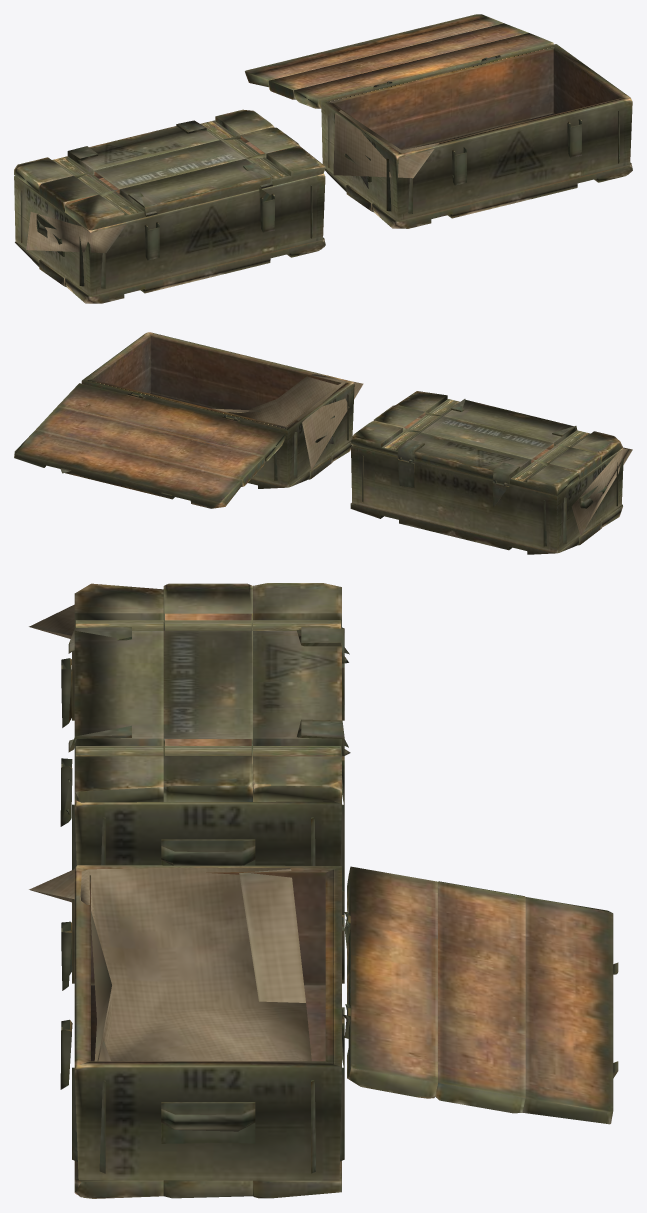
The model's file is old_military_crate.glb.
3 views of the same model, one above another, from view 1: azimuth 30°, elevation 25°; view 2: azimuth 150°, elevation 25°; view 3: azimuth 270°, elevation 25° (orthographic). The views are drawn at different scales.
Parts seen in each view (by area): view 1: old_military_crate_lid_a; view 2: old_military_crate_lid_a; view 3: old_military_crate_lid_a.
Part boxes in pixels (box(x1,y1,x2,y2)): old_military_crate_lid_a: box(14, 14, 632, 303); old_military_crate_lid_a: box(14, 332, 632, 554); old_military_crate_lid_a: box(29, 583, 618, 1198).
Size of the model in its own units: 1.81 by 0.2734 by 0.9479.
1 material, 1 textured.
